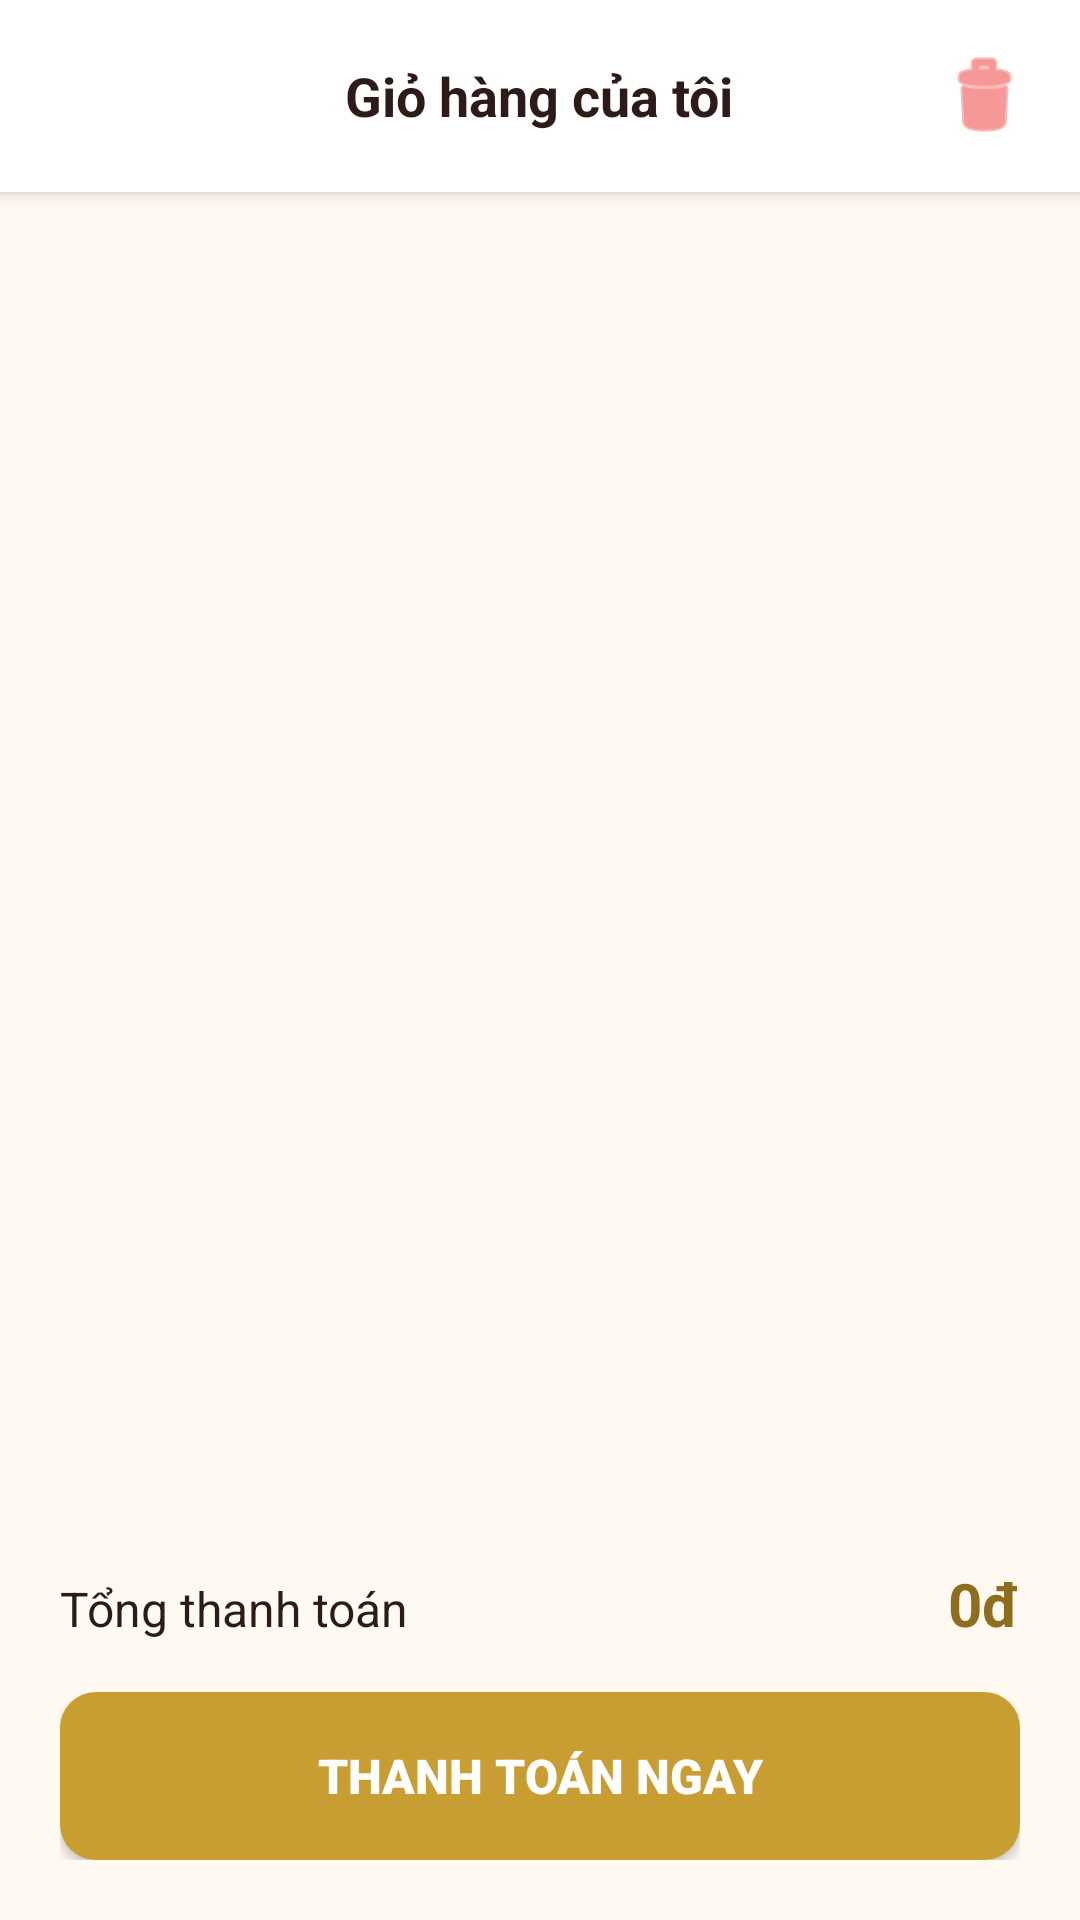

Where to tap for icons on this 1080 × 1920 app screen, as (x,y):
delete: (984,94)
